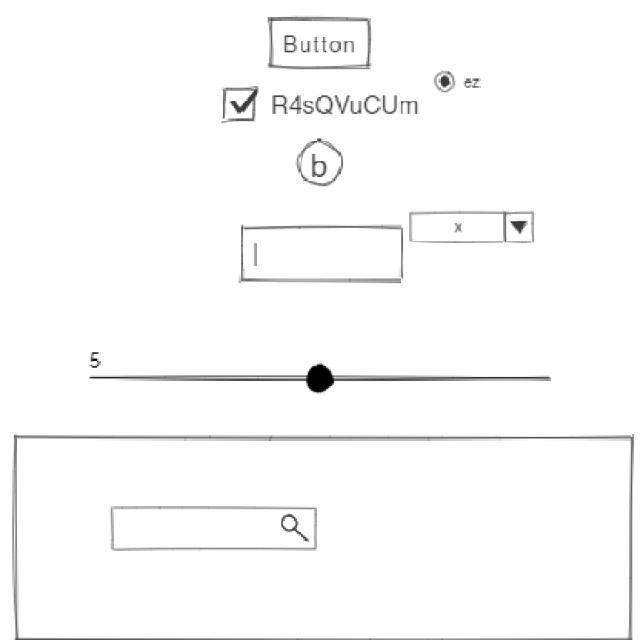button: (268, 14, 376, 72)
checkbox: (221, 84, 422, 126)
container: (11, 432, 638, 640)
input: (238, 222, 406, 287)
radio: (433, 69, 486, 96)
search: (109, 503, 322, 557)
select: (409, 210, 538, 247)
slider: (106, 362, 554, 396)
